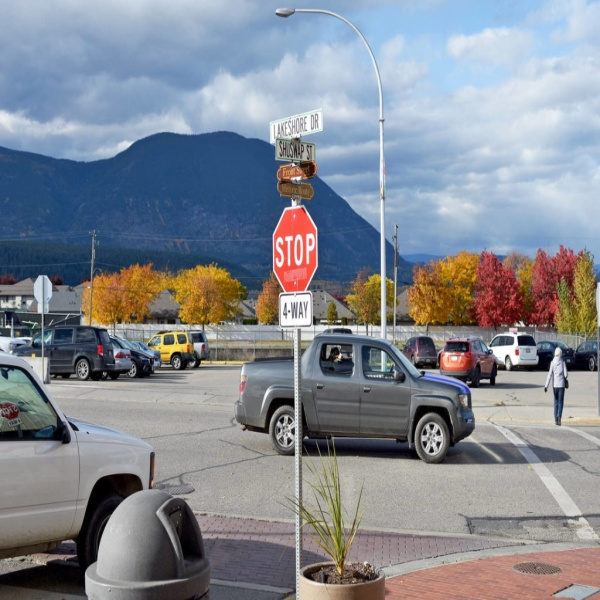stop: (272, 199, 323, 294)
